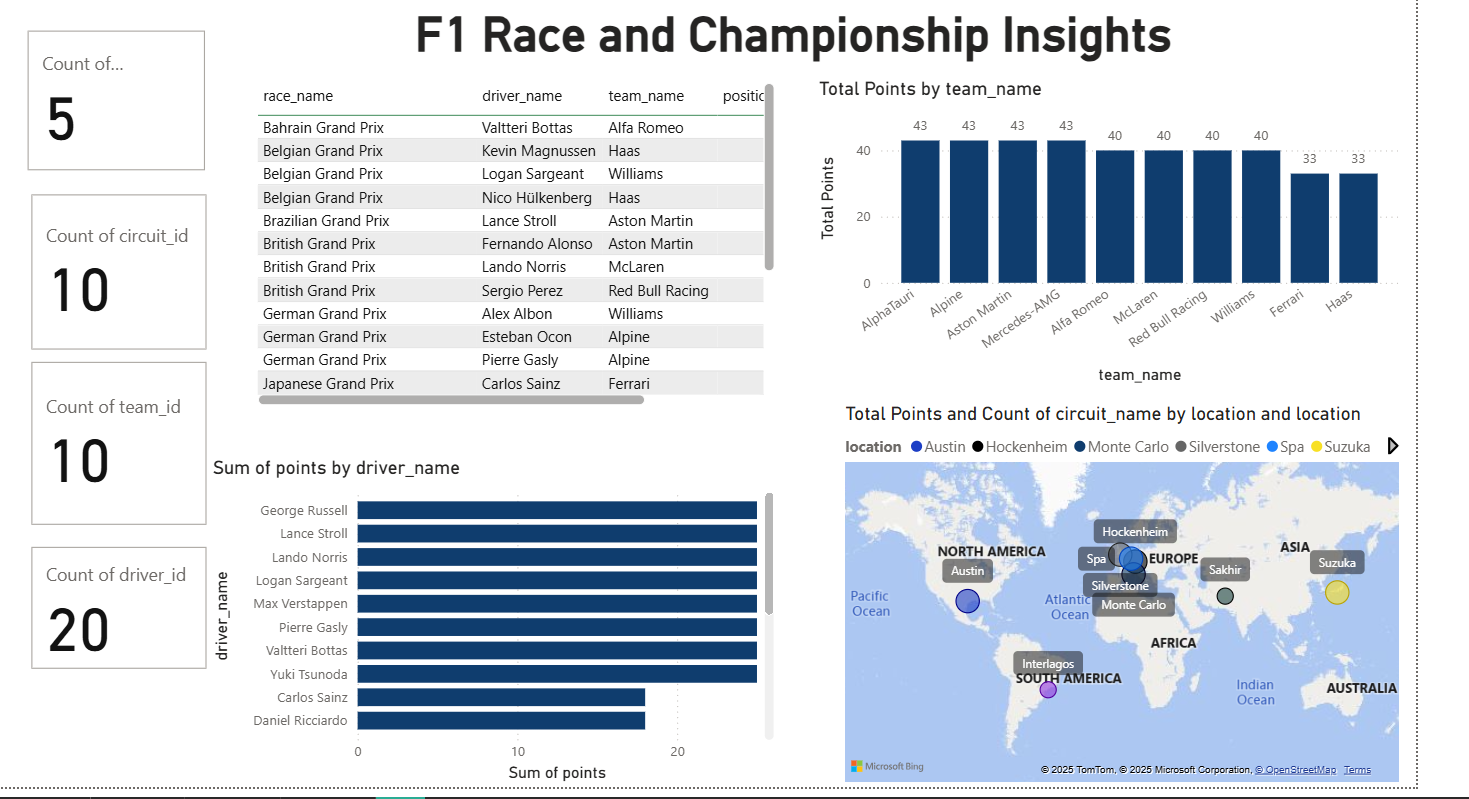

The dashboard page shown, as its layout file describes it:
{"tool":"powerbi","page":{"name":"Page 1","canvas":[1280,720],"ordinal":0},"visuals":[{"type":"clusteredBarChart","fields":{"Category":["powerbi_db driver.driver_name"],"Y":["powerbi_db raceresult.points"]},"box":[190.4,421.4,515.9,298.5],"z":2000},{"type":"cardVisual","fields":{"Data":["powerbi_db championship.championship_id"]},"box":[23.6,32.3,170.4,136.8],"z":4000},{"type":"clusteredColumnChart","fields":{"Y":["powerbi_db championship.Total Points"],"Category":["powerbi_db team.team_name"]},"box":[737.4,79.7,532.1,280.9],"z":5000},{"type":"map","fields":{"Category":["powerbi_db grandprix.location"],"Size":["powerbi_db championship.Total Points"],"Series":["powerbi_db grandprix.location"]},"box":[760.3,372.7,509.1,347.1],"z":7000},{"type":"tableEx","fields":{"Values":["powerbi_db grandprix.race_name","powerbi_db driver.driver_name","powerbi_db team.team_name","powerbi_db raceresult.position","powerbi_db raceresult.fastest_lap","powerbi_db raceresult.points"]},"box":[229.6,79.7,476.7,299.8],"z":8000},{"type":"cardVisual","fields":{"Data":["powerbi_db grandprix.circuit_id"]},"box":[26.6,180.9,168.2,150],"z":9000},{"type":"cardVisual","fields":{"Data":["powerbi_db raceresult.driver_id"]},"box":[26.6,497.7,168.2,120.6],"z":10000},{"type":"cardVisual","fields":{"Data":["powerbi_db team.team_id"]},"box":[26.6,330.9,168.2,157],"z":11000},{"type":"textbox","box":[372.7,10.8,729.3,68.9],"z":11002}]}

Visuals, with their boxes on the page's 1280x720 design canvas (x1, y1, x2, y2). These are canvas units, not pixel positions in the 1469x799 screenshot, which may show the page scaled, cropped or inside an application window:
clusteredBarChart - powerbi_db driver.driver_name x powerbi_db raceresult.points: rect(190, 421, 706, 720)
cardVisual - powerbi_db championship.championship_id: rect(24, 32, 194, 169)
clusteredColumnChart - powerbi_db championship.Total Points x powerbi_db team.team_name: rect(737, 80, 1270, 361)
map - powerbi_db grandprix.location x powerbi_db championship.Total Points: rect(760, 373, 1269, 720)
tableEx - powerbi_db grandprix.race_name x powerbi_db driver.driver_name: rect(230, 80, 706, 380)
cardVisual - powerbi_db grandprix.circuit_id: rect(27, 181, 195, 331)
cardVisual - powerbi_db raceresult.driver_id: rect(27, 498, 195, 618)
cardVisual - powerbi_db team.team_id: rect(27, 331, 195, 488)
textbox: rect(373, 11, 1102, 80)
